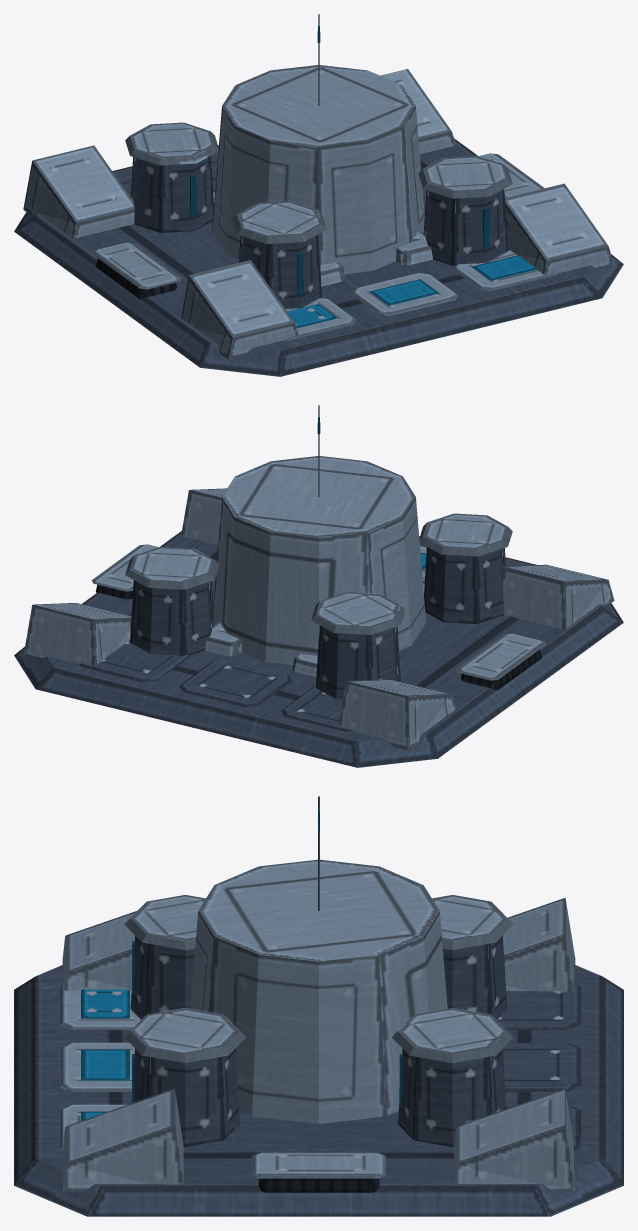
Rendered from building-exotic.fbx.
The picture shows the model from 3 angles, top to bottom: view 1: azimuth 30°, elevation 25°; view 2: azimuth 150°, elevation 25°; view 3: azimuth 270°, elevation 25°; orthographic projection. The views are drawn at different scales.
Parts seen in each view (by area): view 1: building-exotic; view 2: building-exotic; view 3: building-exotic.
Part boxes in pixels (box(x1,y1,x2,y2)): building-exotic: box(14, 14, 623, 376); building-exotic: box(14, 405, 623, 767); building-exotic: box(14, 796, 623, 1216).
Bounding box in the file's own units: 4368 × 2300 × 4368.
1 material, 1 textured.
